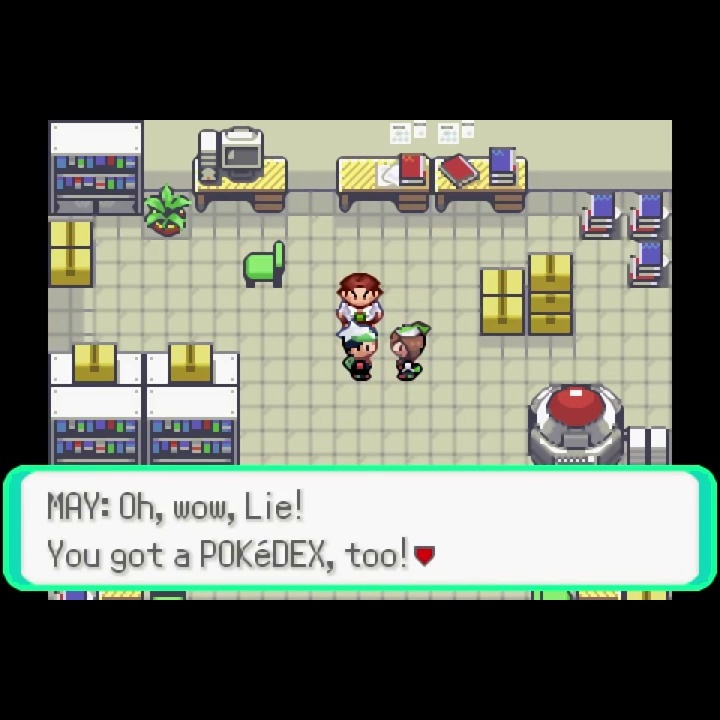agent: (337, 320, 382, 383)
npc: (333, 271, 388, 332), (386, 318, 432, 384)
